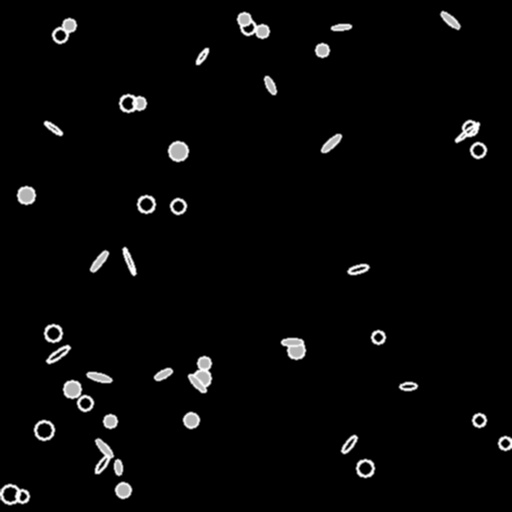pseudomonas: (45, 343, 71, 365), (454, 121, 480, 143), (320, 132, 342, 154), (121, 247, 137, 275), (89, 250, 109, 272), (187, 373, 207, 393), (95, 438, 113, 458), (440, 11, 460, 29), (93, 454, 111, 474), (340, 434, 358, 454), (43, 120, 63, 136), (86, 371, 112, 383), (263, 75, 277, 95), (153, 367, 173, 381), (195, 47, 209, 65), (347, 264, 369, 274), (114, 459, 122, 475), (400, 382, 416, 390), (281, 339, 302, 345), (331, 24, 351, 30)
synechocystis: (1, 485, 19, 503), (35, 421, 53, 439), (169, 142, 187, 160), (64, 381, 80, 397), (357, 460, 373, 476), (138, 196, 154, 212), (45, 325, 61, 341), (194, 370, 210, 386), (288, 342, 304, 358), (18, 187, 34, 203), (120, 95, 136, 111), (78, 396, 92, 410), (116, 483, 130, 497), (241, 20, 255, 34), (53, 28, 67, 42), (471, 143, 485, 157), (171, 199, 185, 213), (463, 121, 477, 135), (184, 413, 198, 427), (63, 19, 75, 31), (372, 331, 384, 343), (133, 97, 145, 109), (473, 414, 485, 426), (104, 415, 116, 427), (16, 490, 28, 502), (198, 357, 210, 369), (256, 25, 268, 37), (238, 13, 250, 25), (316, 44, 328, 56), (499, 437, 511, 449)
